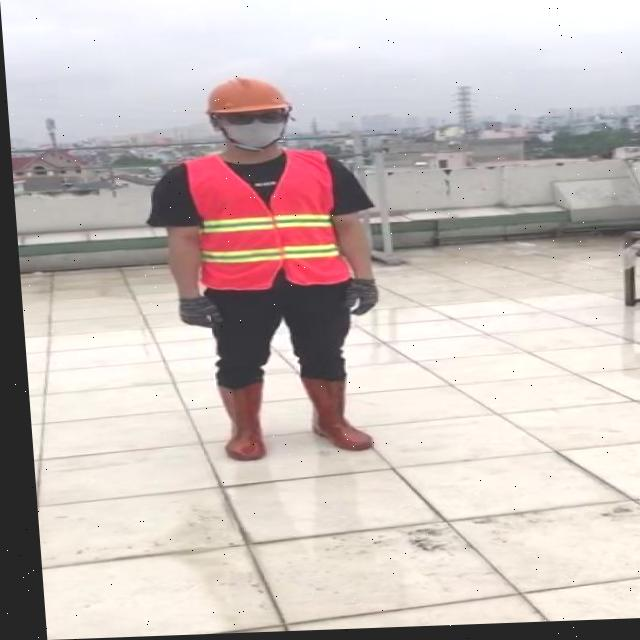Gloves: (173, 296, 217, 329), (339, 280, 374, 318)
Safety-Boot: (293, 374, 365, 454), (209, 378, 261, 463)
Safety-Vest: (178, 149, 346, 294)
